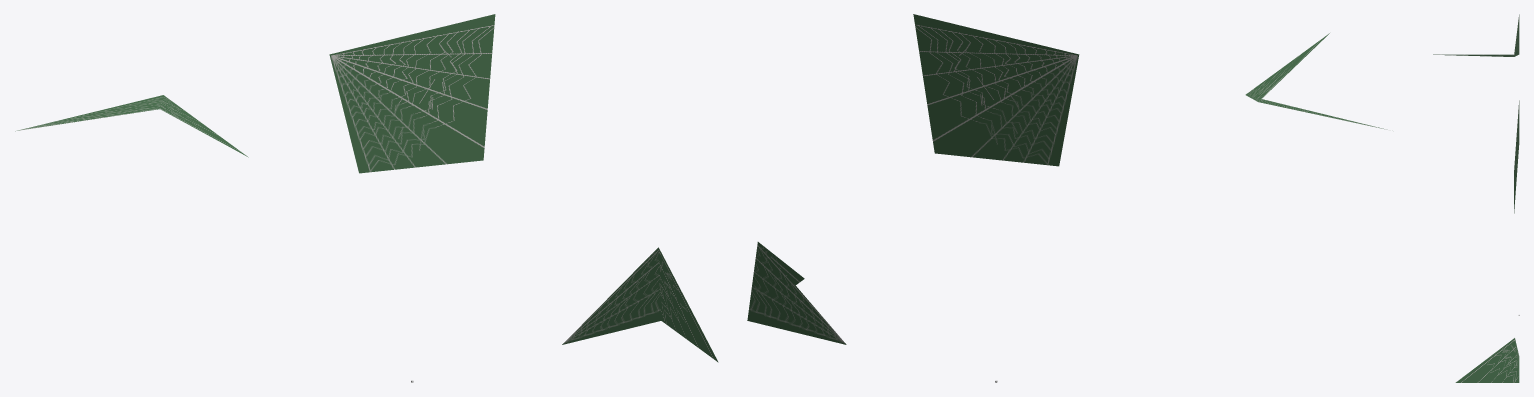
Rendered from cobweb_cards_v1.glb.
3 renders of one model, left to right at view 1: azimuth 30°, elevation 25°; view 2: azimuth 150°, elevation 25°; view 3: azimuth 270°, elevation 25°, orthographic. The views are drawn at different scales.
Visible parts, largest first — view 1: web_hang, web_low, web_corner; view 2: web_hang, web_low, web_corner; view 3: web_low, web_corner, web_hang.
Boxes of the visible parts, x1,y1,x2,y2 form: web_hang: (329, 14, 495, 173); web_low: (562, 247, 718, 362); web_corner: (15, 95, 248, 157); web_hang: (913, 14, 1079, 166); web_low: (747, 242, 846, 344); web_corner: (1245, 33, 1387, 129); web_low: (1455, 338, 1519, 382); web_corner: (1433, 14, 1519, 56); web_hang: (1514, 100, 1519, 213).
Bounding box in the file's own units: 3.9 × 2 × 0.905.
Materials: 1 (1 with a texture image).
